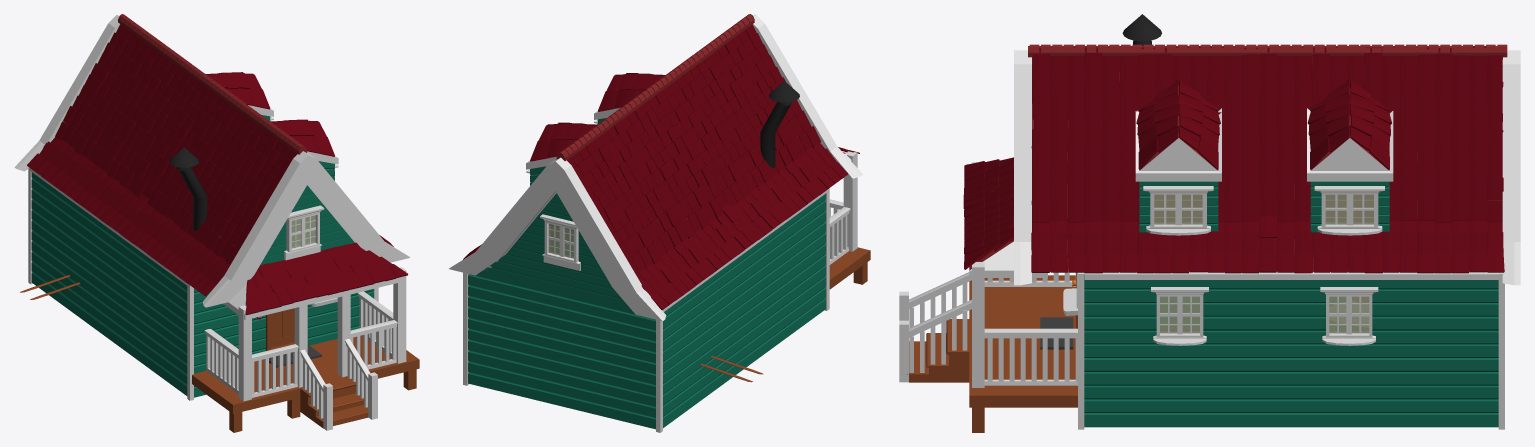
Rendered from House-1.fbx.
3 views of the same model, side by side, from view 1: azimuth 30°, elevation 25°; view 2: azimuth 150°, elevation 25°; view 3: azimuth 270°, elevation 25° (orthographic). The views are drawn at different scales.
Parts seen in each view (by area): view 1: Roof-Tiles-1.001, House.002, Roof, Roof-Porch, House.003, RoofStopTop, Chimney, House.411, House.400, House.004, House.010, House.011 (+21 smaller); view 2: House.002, Roof-Tiles-1.001, Roof, RoofStopTop, Chimney, House.400, House.411, House.004, House.003, OutSide-CornerPieace.003, Window-1.011, House.016 (+4 smaller); view 3: Roof-Tiles-1, House.002, Roof, House.003, RoofStopTop, House.411, House.400, Roof-Porch, OutSide-CornerPieace.005, House.017, House.018, House.012 (+24 smaller).
Boxes of the visible parts, x1,y1,x2,y2 form: Roof-Tiles-1.001: (27, 24, 297, 296); House.002: (31, 172, 373, 397); Roof: (14, 15, 410, 307); Roof-Porch: (245, 242, 408, 315); House.003: (192, 335, 419, 413); RoofStopTop: (118, 14, 306, 154); Chimney: (169, 147, 207, 230); House.411: (270, 119, 334, 156); House.400: (205, 72, 270, 109); House.004: (238, 305, 251, 401); House.010: (223, 276, 404, 319); House.011: (252, 351, 297, 394); House.002: (468, 193, 825, 429); Roof-Tiles-1.001: (567, 24, 847, 310); Roof: (449, 15, 862, 321); RoofStopTop: (556, 14, 754, 161); Chimney: (760, 81, 799, 168); House.400: (530, 122, 597, 161); House.411: (598, 73, 664, 111); House.004: (843, 151, 857, 251); House.003: (829, 247, 870, 289); OutSide-CornerPieace.003: (656, 310, 662, 432); Window-1.011: (540, 214, 580, 264); House.016: (829, 215, 847, 260); Roof-Tiles-1: (1031, 46, 1504, 273); House.002: (1084, 272, 1498, 427); Roof: (1014, 50, 1520, 285); House.003: (969, 275, 1077, 407); RoofStopTop: (1028, 44, 1507, 57); House.411: (1136, 79, 1220, 169); House.400: (1307, 80, 1391, 169); Roof-Porch: (963, 157, 1013, 269); OutSide-CornerPieace.005: (1084, 272, 1498, 279); House.017: (1135, 108, 1221, 232); House.018: (1307, 108, 1393, 232); House.012: (987, 338, 1077, 381).
Bounding box in the file's own units: 11948 × 11444 × 19599.
